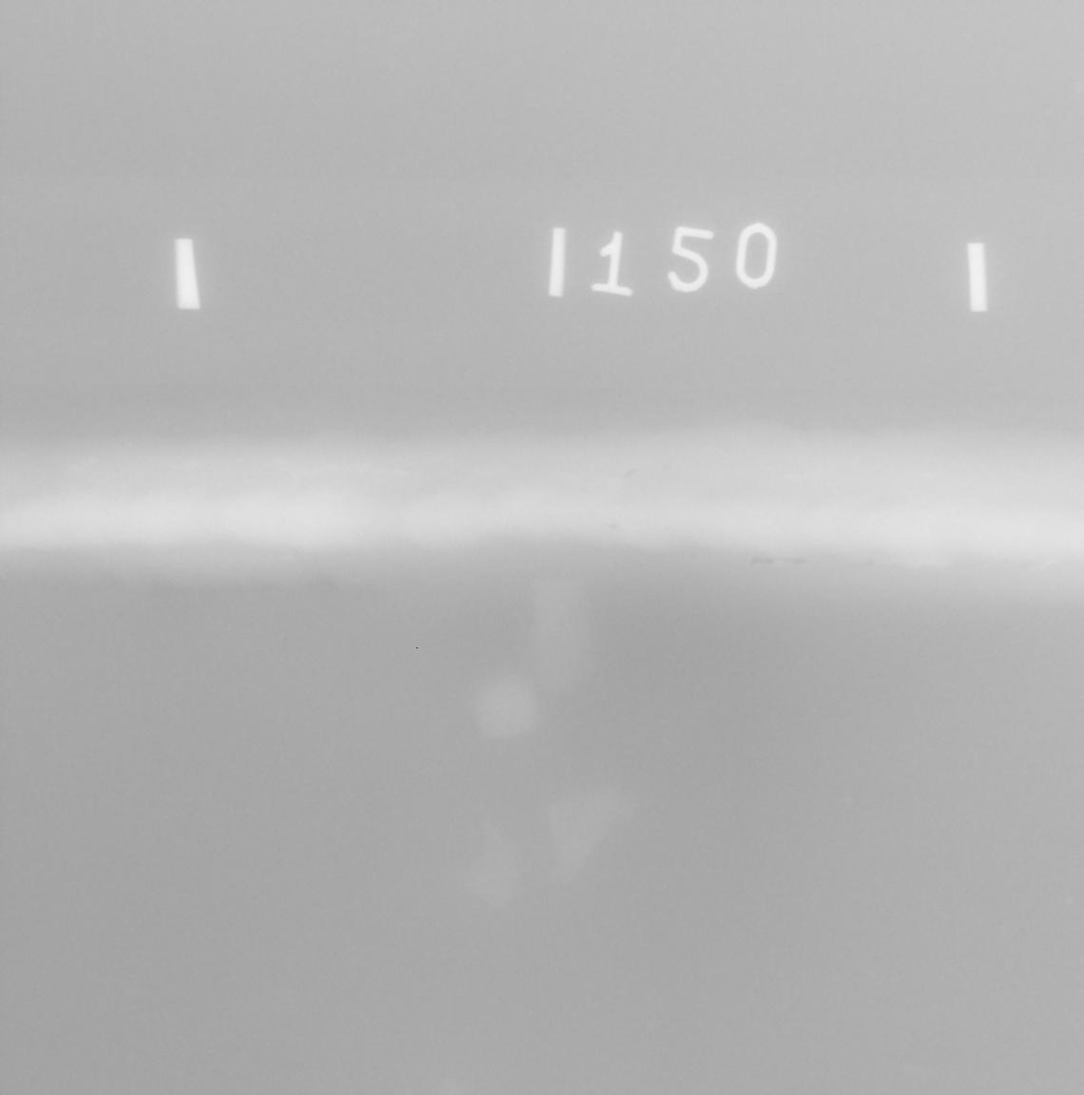Inclusion: (750, 557, 807, 564), (624, 468, 635, 479), (649, 527, 672, 530), (784, 472, 805, 474)
Pore/Porosity: (608, 523, 619, 532), (864, 560, 873, 567), (663, 464, 669, 470), (692, 554, 696, 561)
